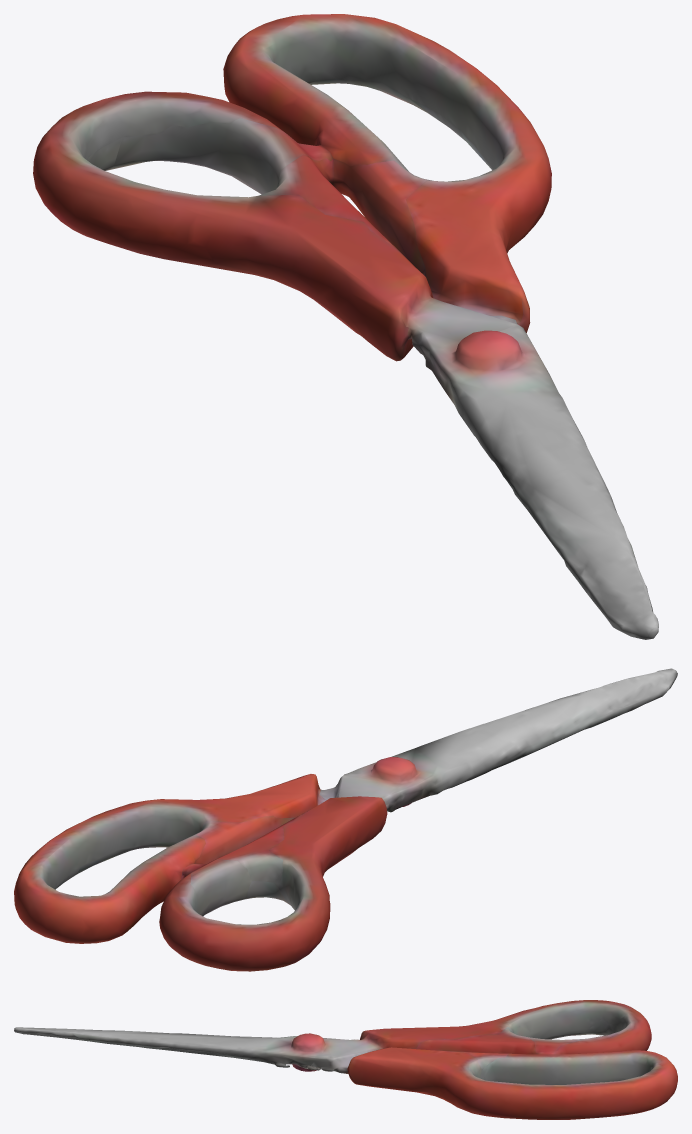
File: Diamond_Visions_Scissors_Red-high.glb
The picture shows the model from 3 angles, top to bottom: view 1: azimuth 30°, elevation 25°; view 2: azimuth 150°, elevation 25°; view 3: azimuth 270°, elevation 25°; orthographic projection. The views are drawn at different scales.
Visible parts, largest first — view 1: Diamond_Visions_Scissors_Red; view 2: Diamond_Visions_Scissors_Red; view 3: Diamond_Visions_Scissors_Red.
Boxes of the visible parts, x1,y1,x2,y2 form: Diamond_Visions_Scissors_Red: (33,14,658,639); Diamond_Visions_Scissors_Red: (14,668,677,971); Diamond_Visions_Scissors_Red: (14,1000,677,1119).
Size of the model in its own units: 0.0767 by 0.0146 by 0.2096.
Materials: 1 (1 with a texture image).
